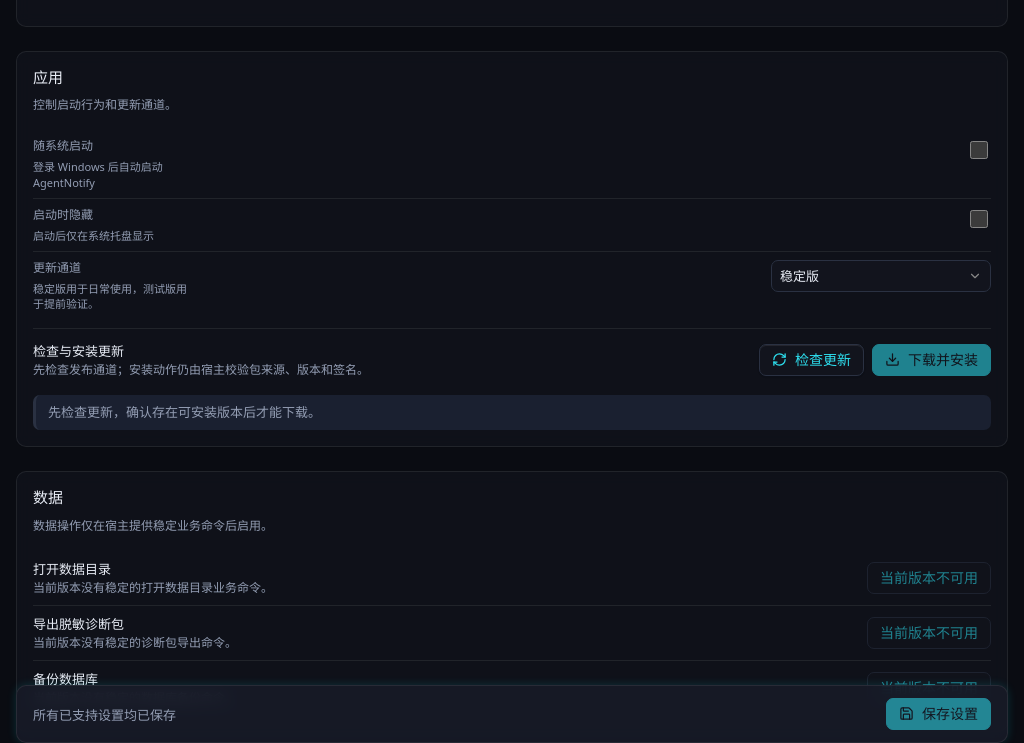
Test: SettingsPage › groups settings and marks commands without a stable business contract unavailable
(page scrolled)
Expected: the heading "应用" is shown, [33,68,63,87]
Expected: the heading "数据" is shown, [33,488,63,508]
Click the button "检查更新". click: (812, 360)
box: [759,344,864,376]
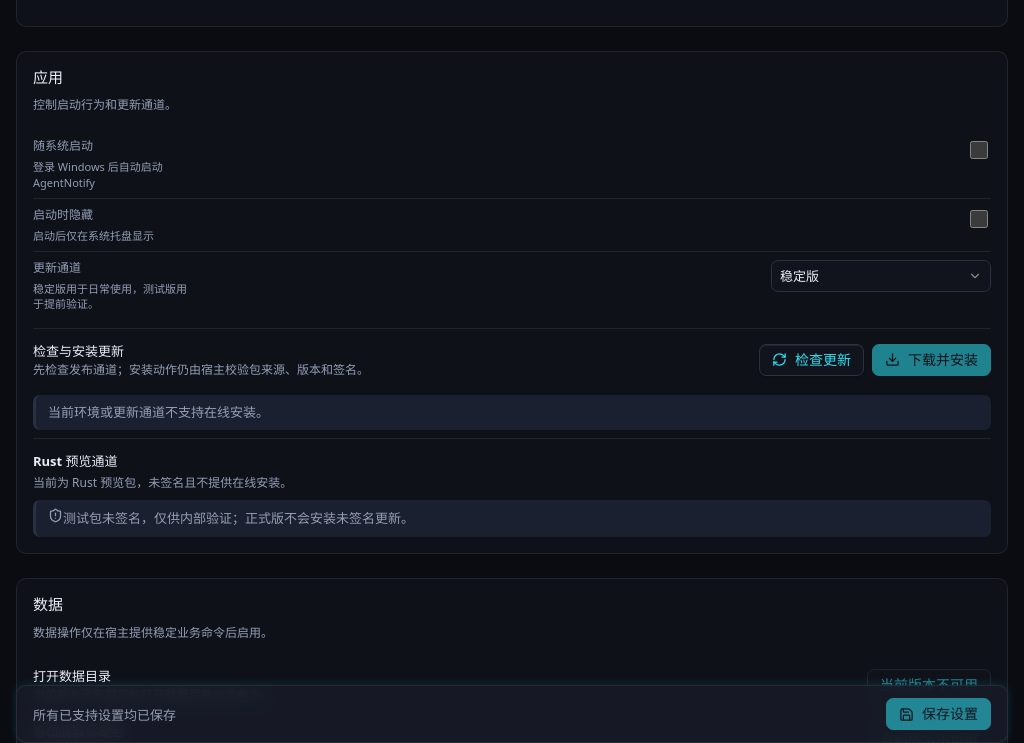
Now the text "测试包未签名，仅供内部验证；正式版不会安装未签名更新。" is shown, box [33,500,991,537]
